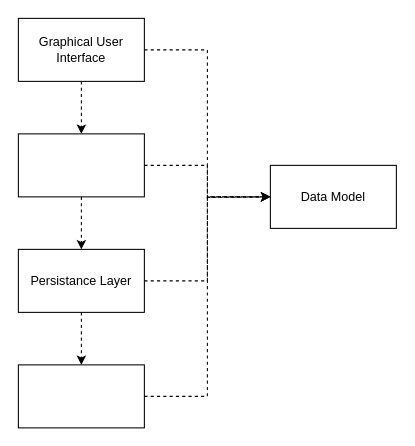
The diagram is 415 pixels wide and 446 high, and some of its shapes have lost their labels. Here are the shapes that lost their labels. From the top down, the centre of each, then its label:
At (80,165): "Bussines Logic".
At (80,396): "Data Access".
